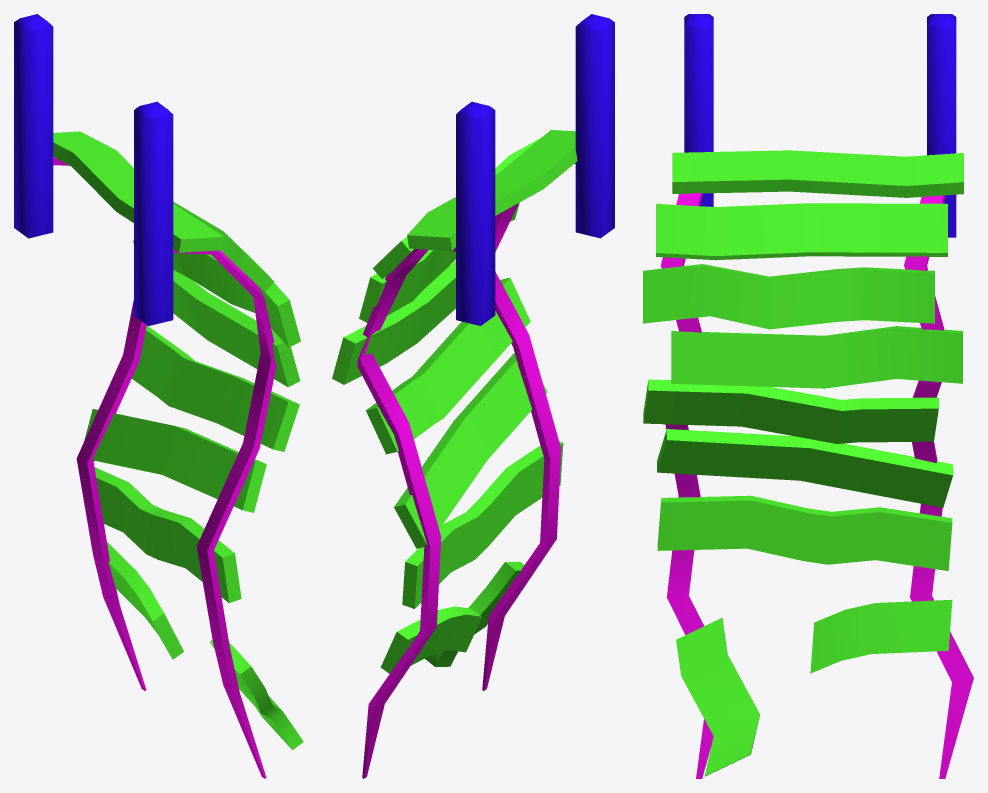
The model's file is pont.FBX.
3 views of the same model, side by side, from view 1: azimuth 30°, elevation 25°; view 2: azimuth 150°, elevation 25°; view 3: azimuth 270°, elevation 25° (orthographic).
Visible parts, largest first — view 1: pont; view 2: pont; view 3: pont.
Part boxes in pixels (<box>): pont: <box>14,14,303,778</box>; pont: <box>332,14,614,778</box>; pont: <box>643,14,973,778</box>.
Size of the model in its own units: 133 by 537 by 227.
